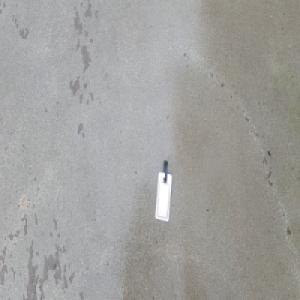LuggageTag: (154, 159, 172, 222)
